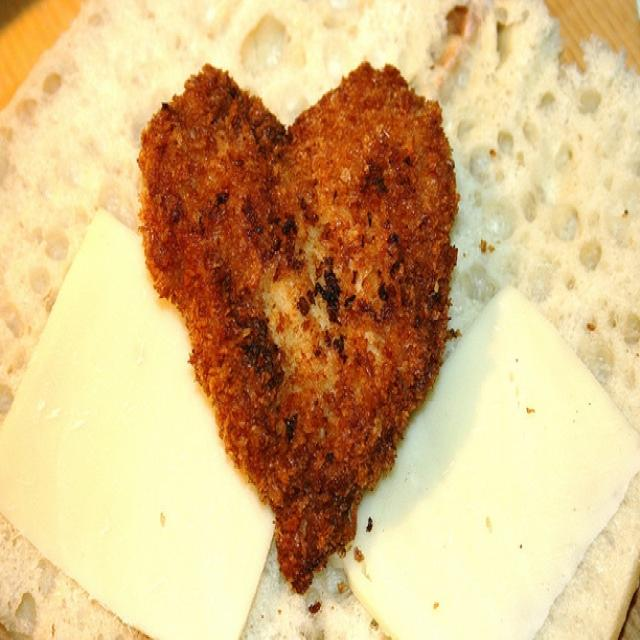鸡肉料理 含炸鸡: (58, 20, 573, 602)
